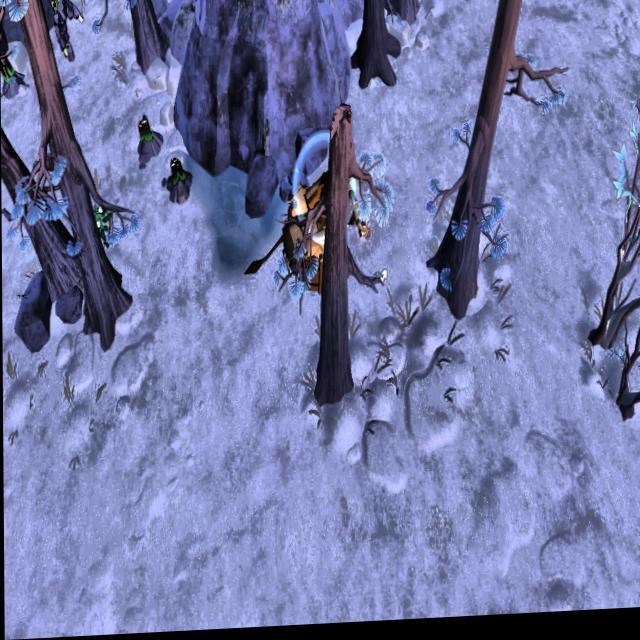fiber_t3: (89, 200, 112, 251)
ore_t3: (0, 53, 18, 90), (138, 112, 153, 151), (169, 157, 185, 187)
